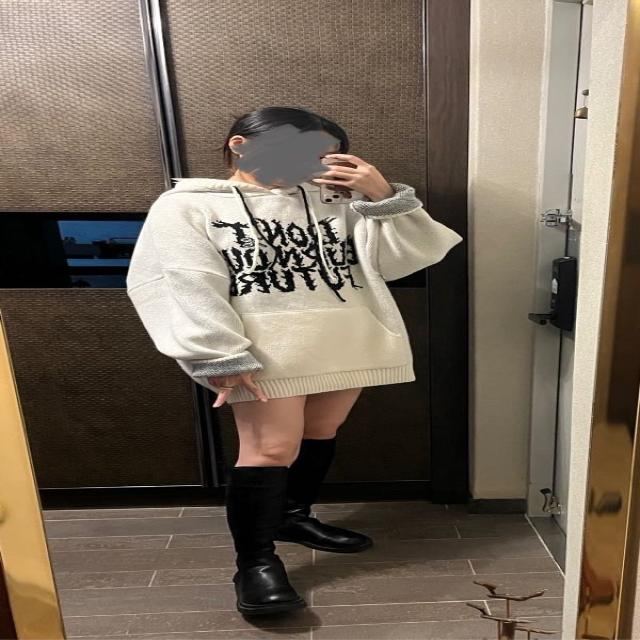hoodies: (129, 175, 469, 401)
